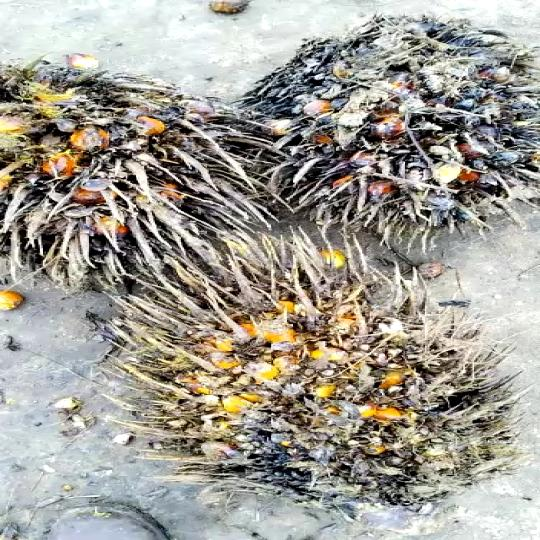terlalu masak: (100, 226, 533, 510), (218, 7, 540, 237), (0, 53, 257, 314)
